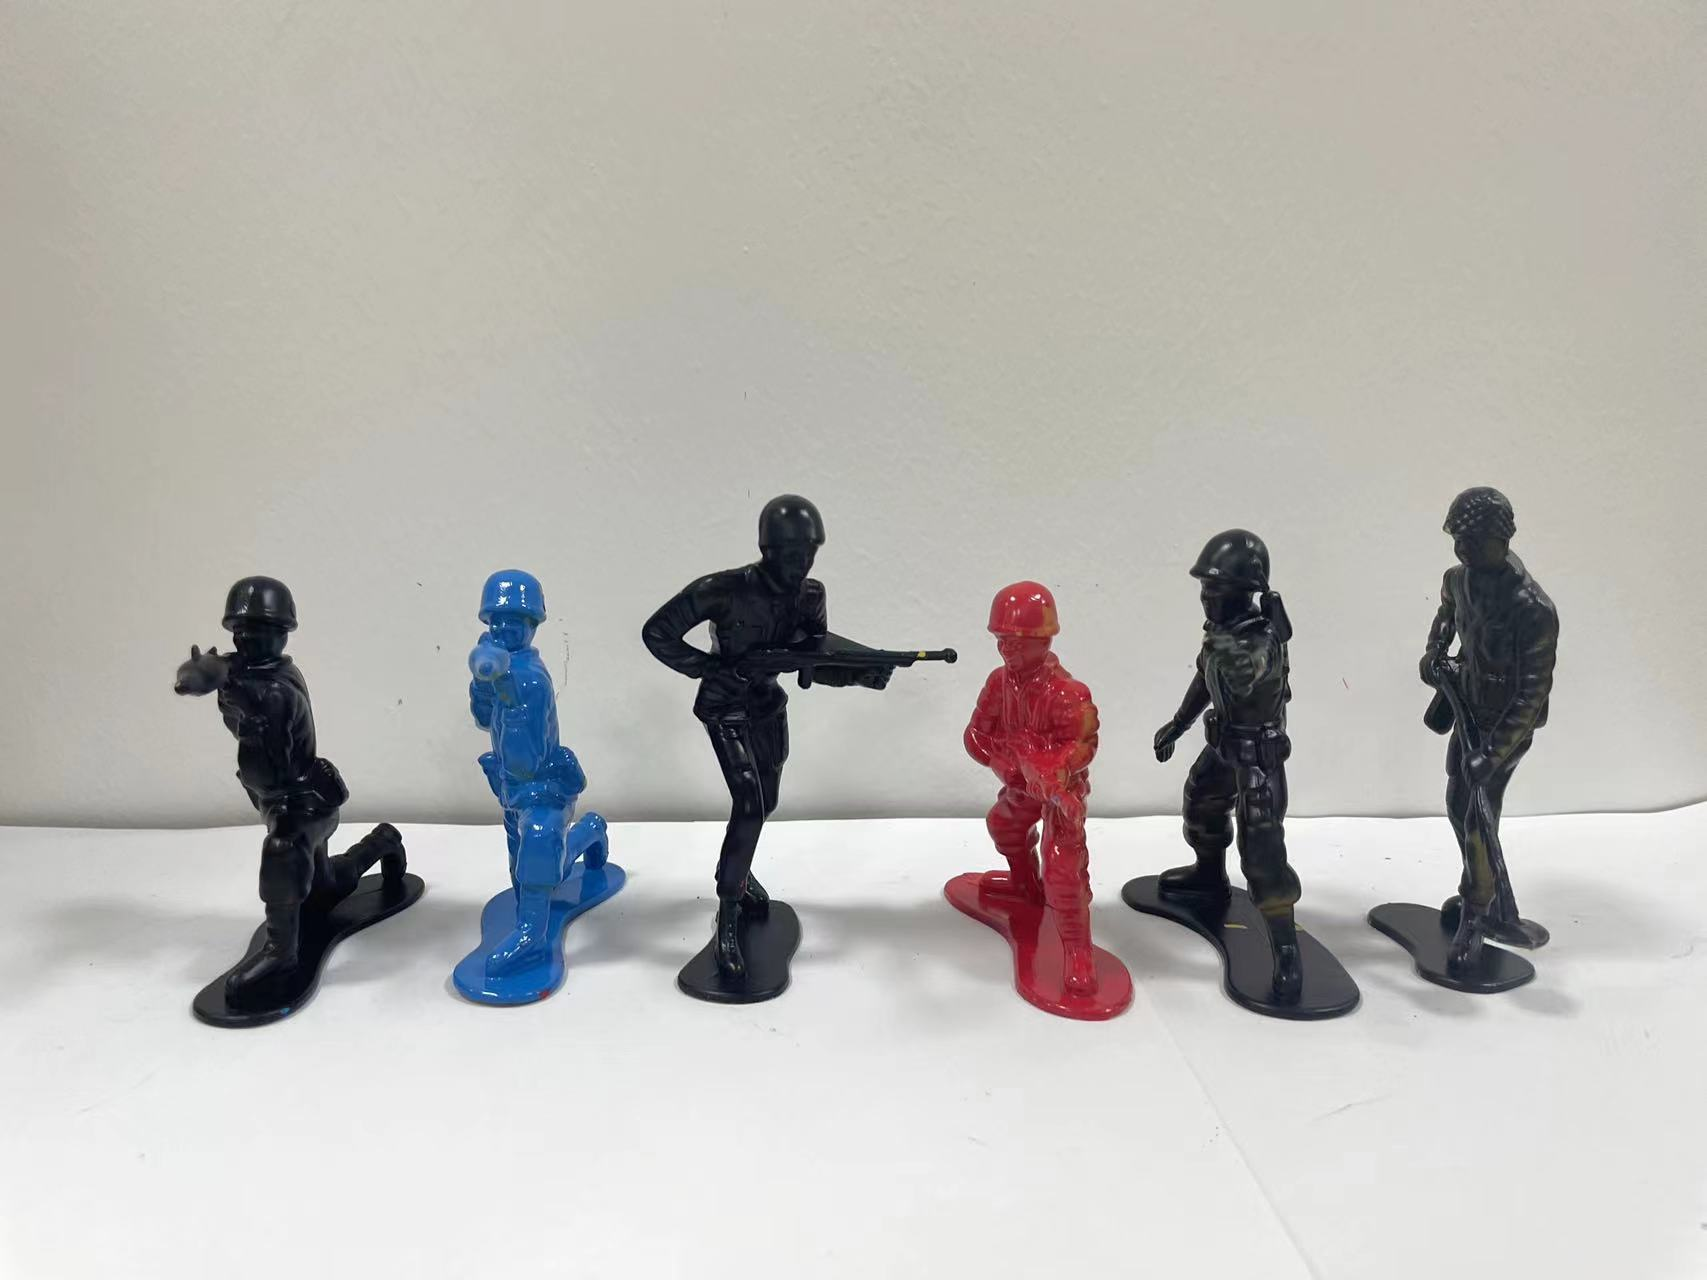black: (637, 460, 937, 1101), (1124, 481, 1374, 1045), (1383, 454, 1614, 1062), (148, 561, 415, 1065)
blue: (435, 502, 649, 1053)
red: (940, 543, 1128, 1077)
